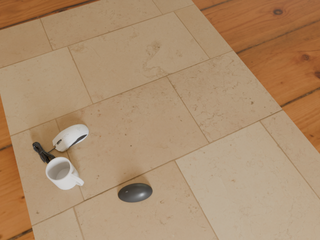cup: (46, 157, 84, 190)
mouse: (53, 124, 89, 151), (118, 183, 152, 202)
